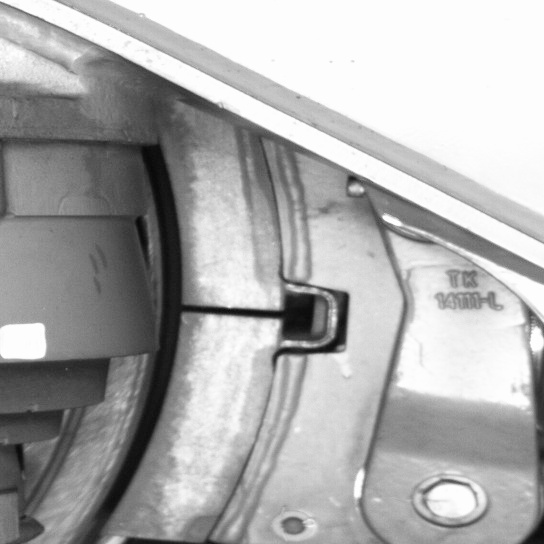KnifeSwitch: (68, 140, 296, 542)
